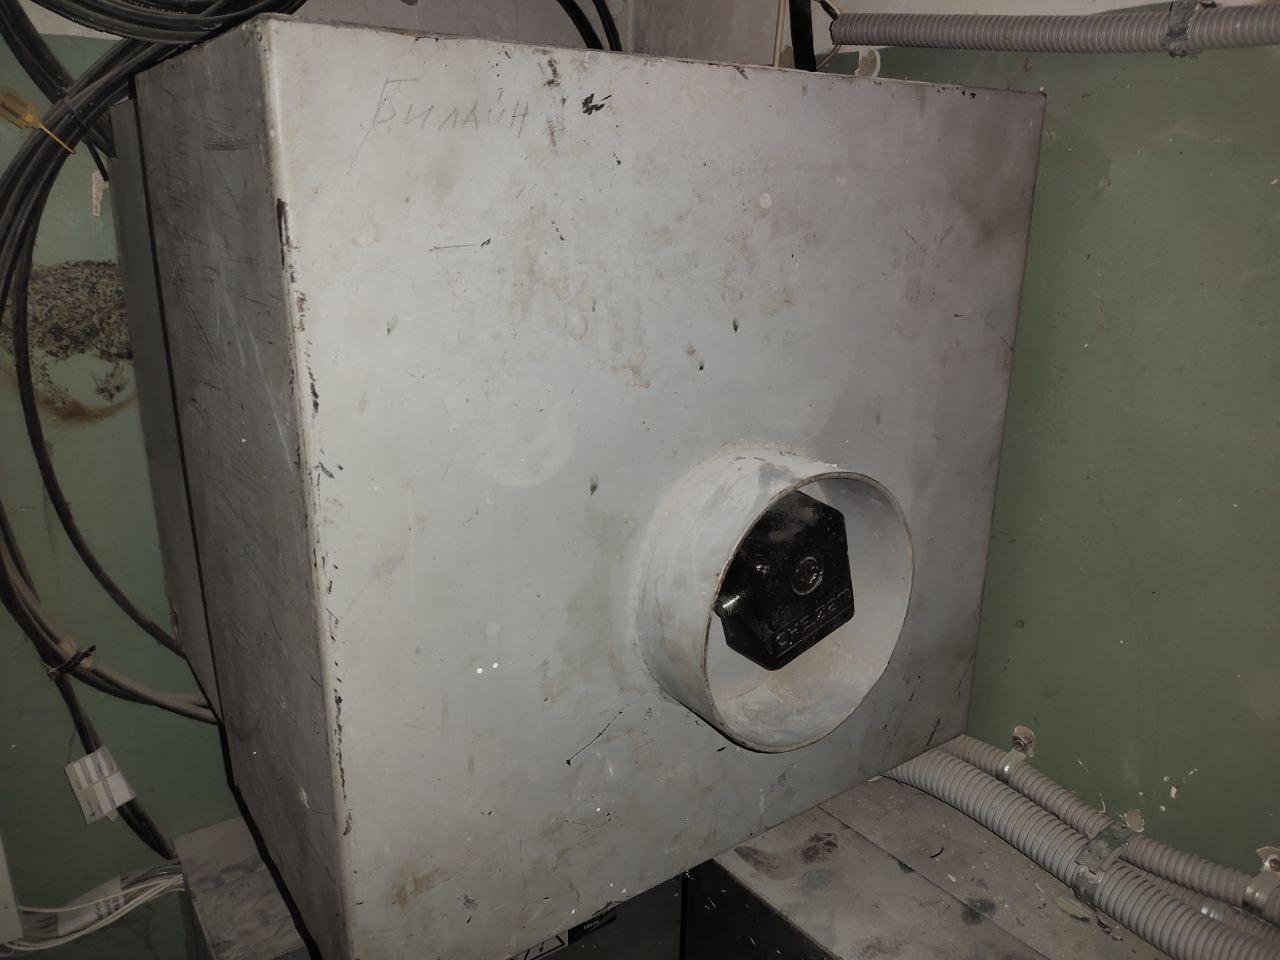shta-9: (79, 12, 1058, 949)
